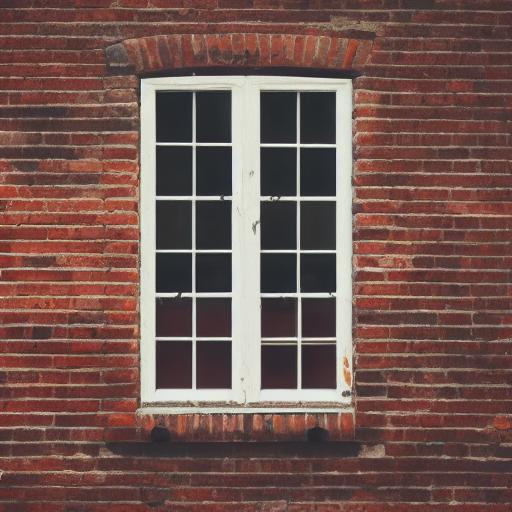Window: (102, 33, 378, 449)
